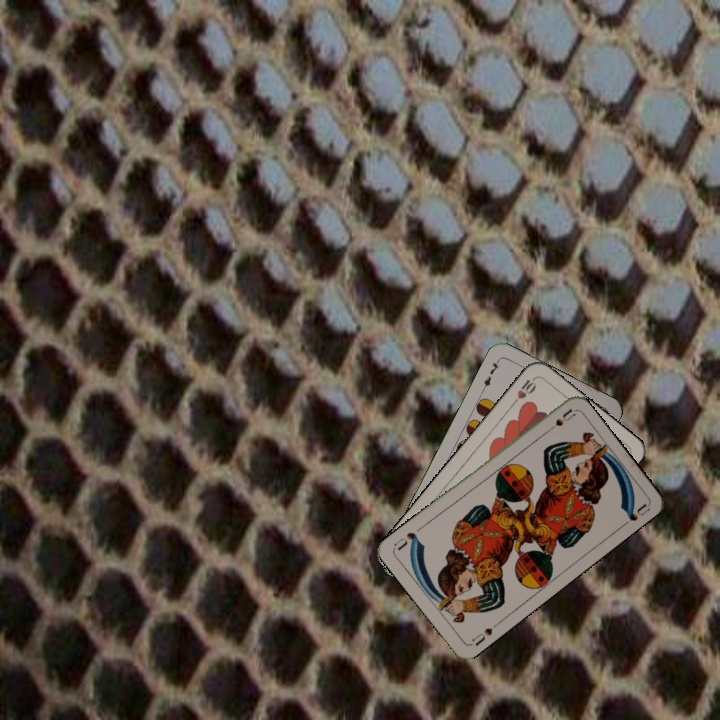E7: (478, 355, 502, 393)
H10: (508, 373, 539, 408)
SU: (541, 405, 578, 436), (468, 624, 495, 649)
